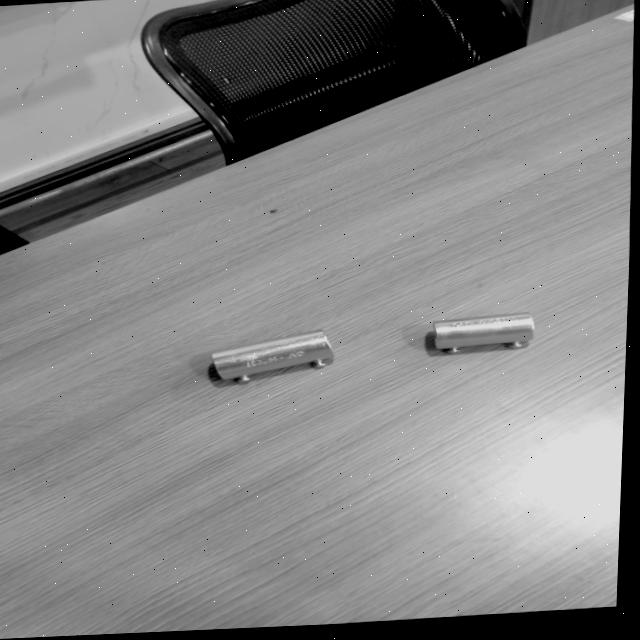Co_Lon: (207, 328, 335, 388)
Co_Nho: (432, 313, 536, 354)
